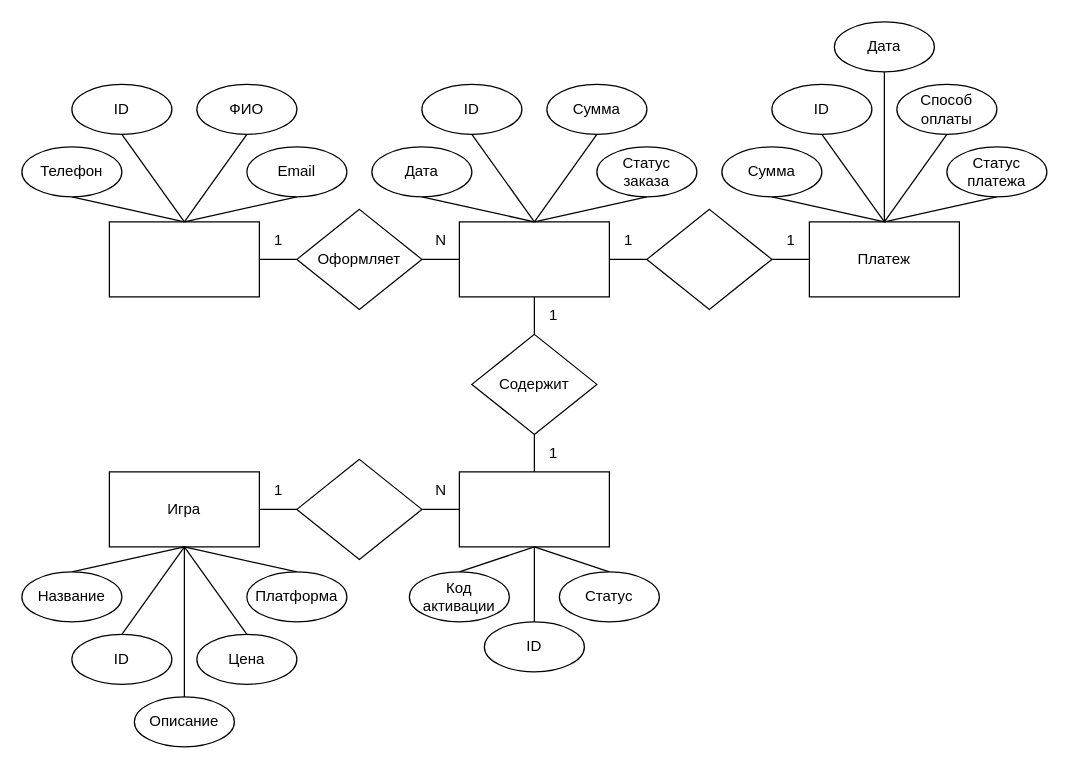
Some shapes in this 1069 by 769 pixel diagram are drawn without their labels. Here are the shapes that lost their labels. From the top down, the centre of each, then its label:
At [183,259]: "Покупатель".
At [533,259]: "Заказ".
At [709,258]: "Оплачивается".
At [359,508]: "Имеет".
At [533,509]: "Игровой ключ".
